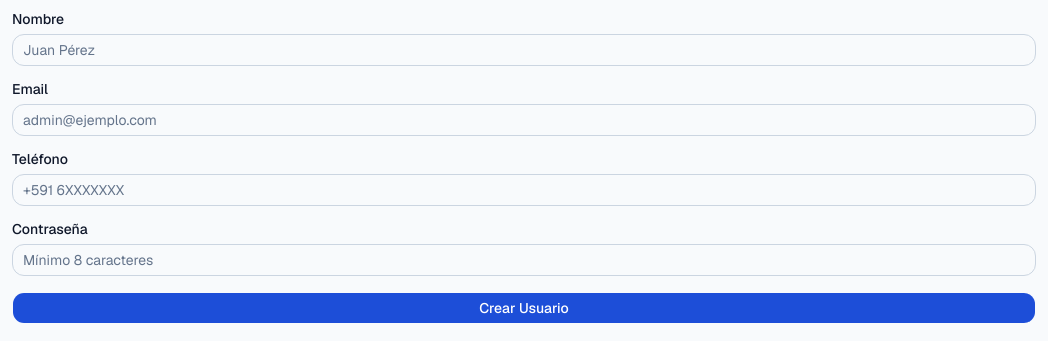
Test: CreateUserForm › shows loading state during submission
Step 1. Type "Test Admin" into the field labelled "Nombre" → (524, 50), box 12,34 -> 1036,66
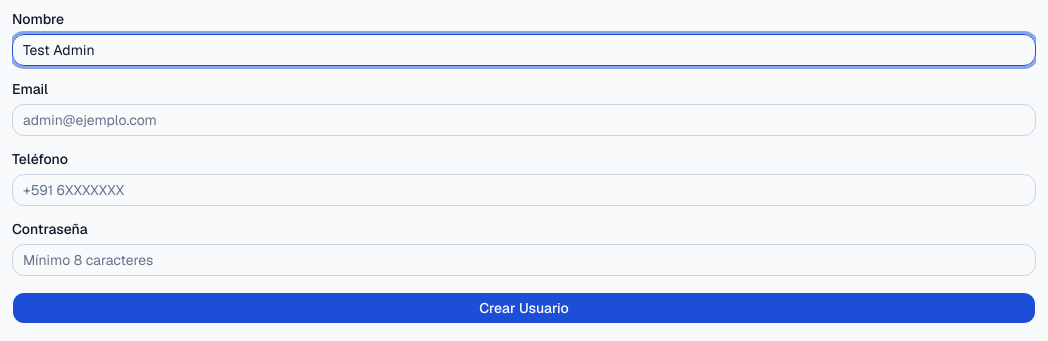
Step 2. Type "admin@test.com" into the field labelled "Email" → (524, 120), box 12,104 -> 1036,136
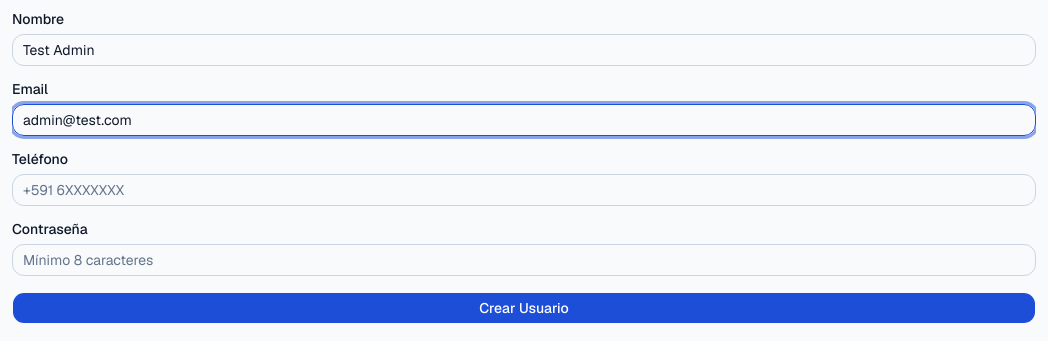
Step 3. Type "+59177123456" into the field labelled "Teléfono" → (524, 190), box 12,174 -> 1036,206
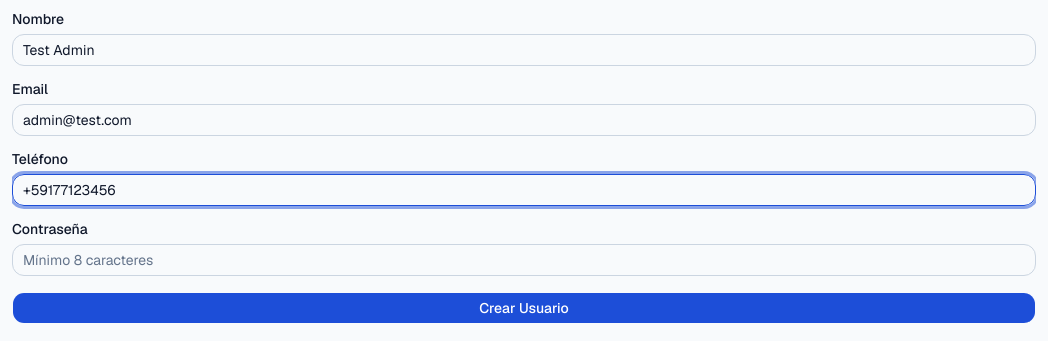
Step 4. Type "password123" into the password field labelled "Contraseña" → (524, 260), box 12,244 -> 1036,276
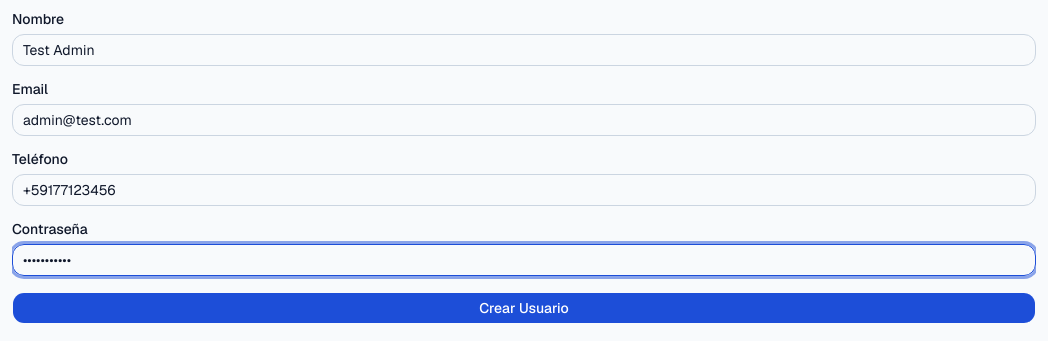
Step 5. Click the button "Crear Usuario" → (524, 308), box 12,292 -> 1036,324
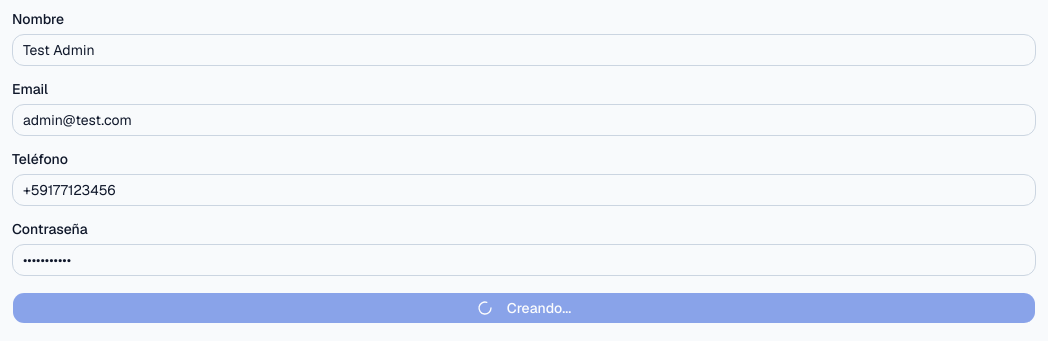
Expected: the button "Creando..." is shown, 12,292 -> 1036,324
